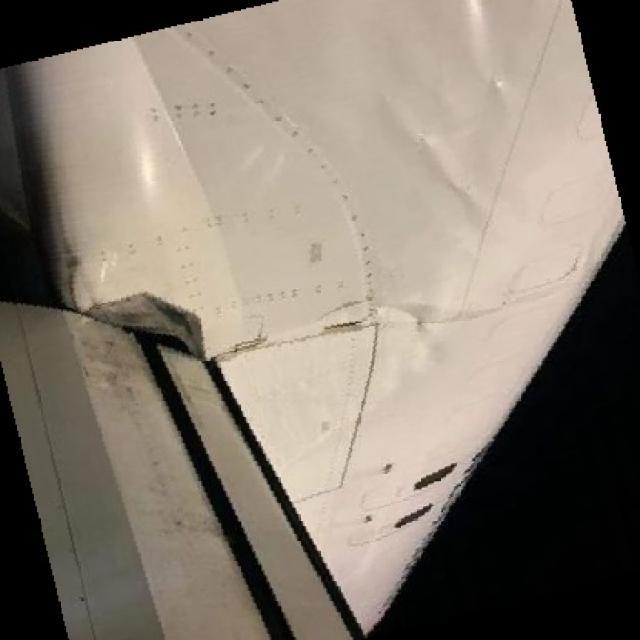dent: (403, 106, 483, 212), (378, 292, 451, 369), (469, 4, 512, 100), (324, 300, 363, 354), (247, 140, 290, 188), (143, 129, 172, 192)
